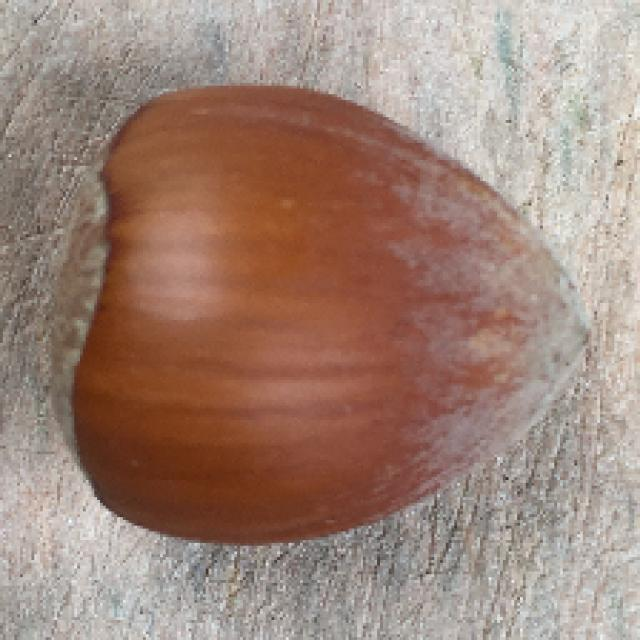QualityHazelnut: (43, 80, 589, 551)
